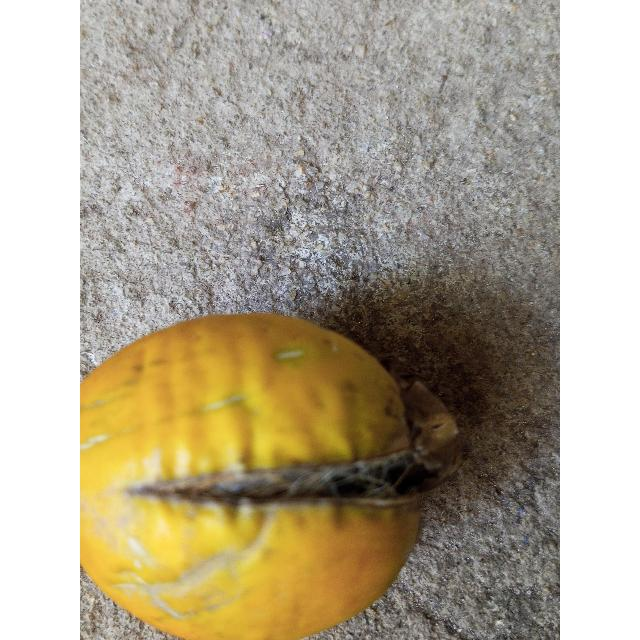damaged: (80, 313, 464, 640)
